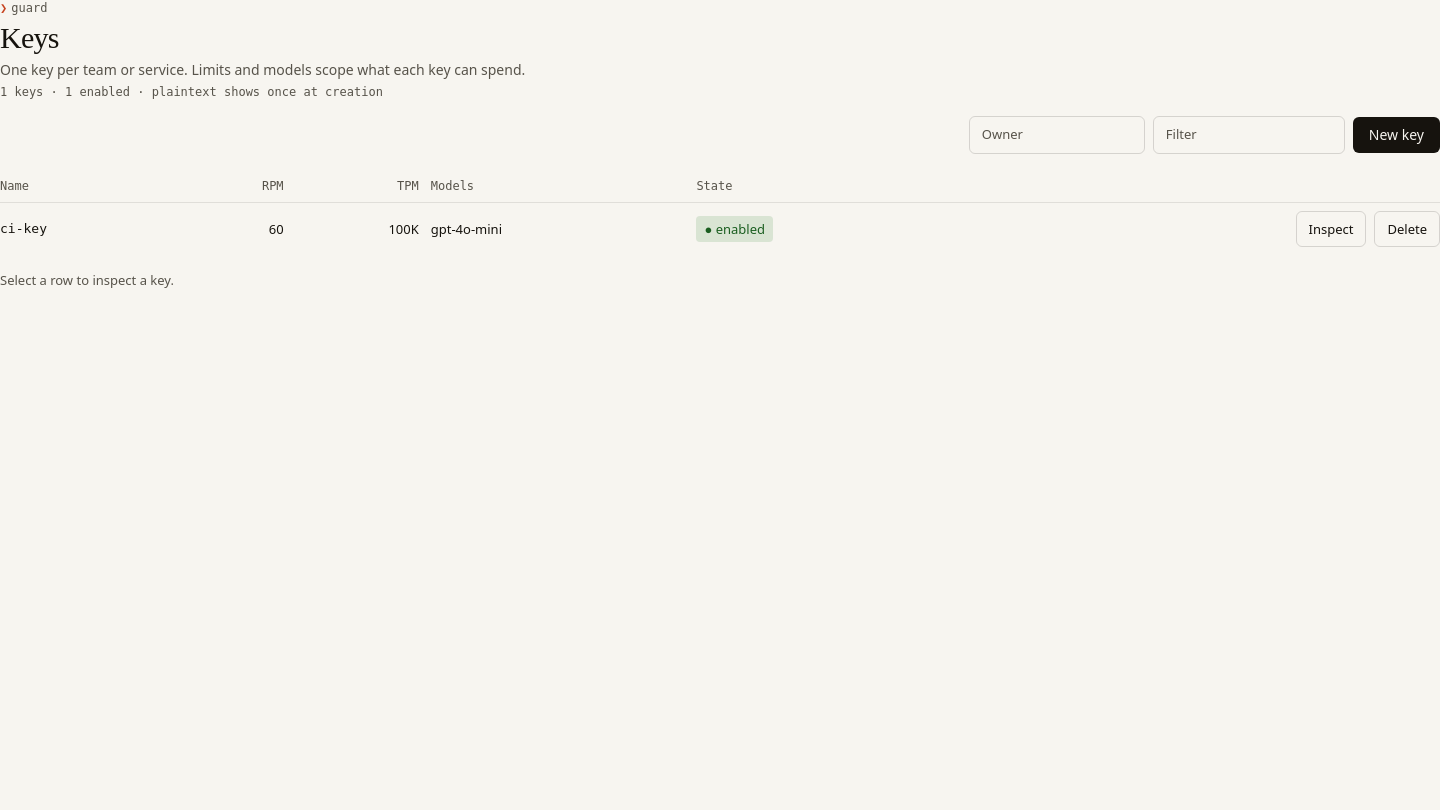
Test: KeysPage › names empty transfer targets before sending
Click the button with aria-label "inspect key ci-key" at (1331, 229), box [1296, 210, 1366, 247]
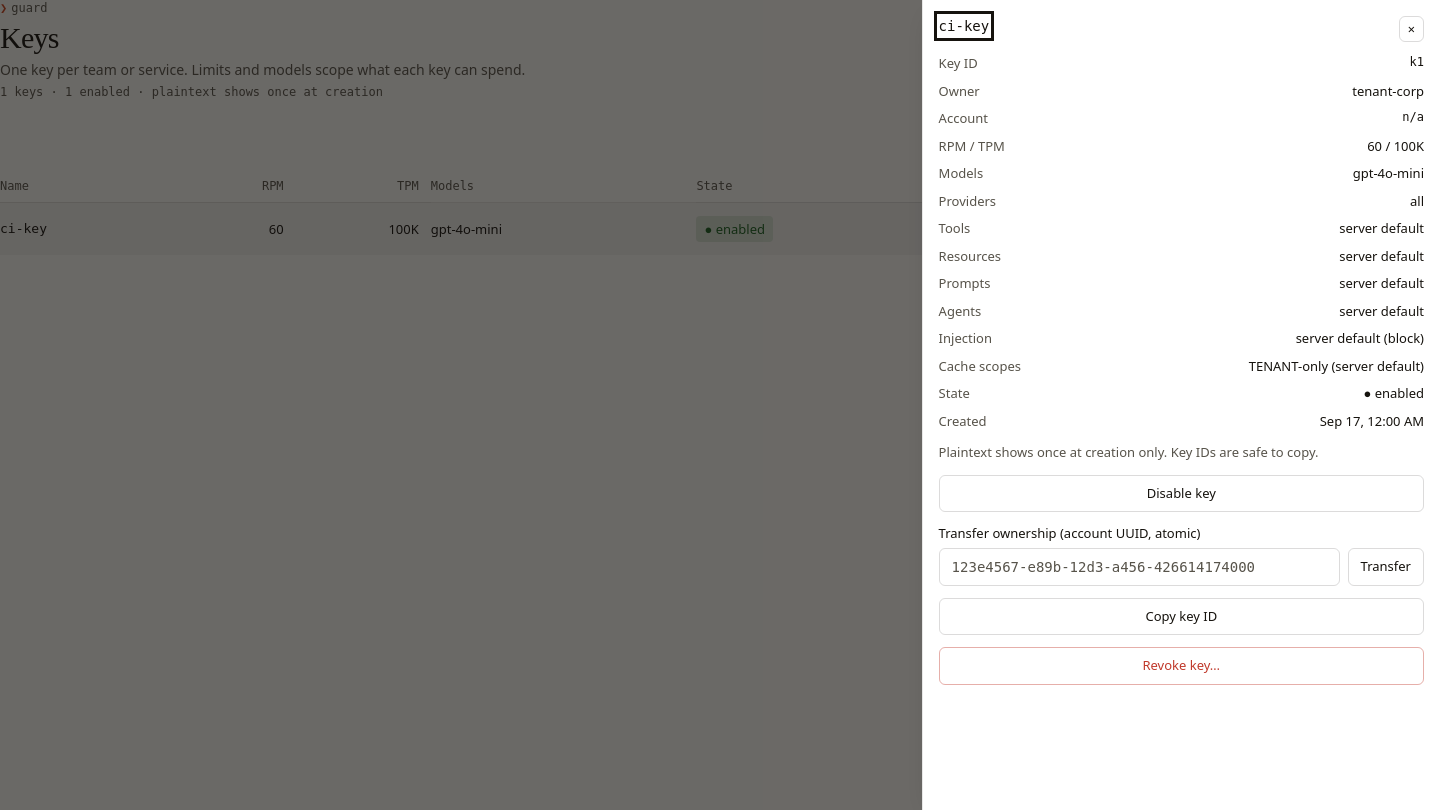
Click the button "Transfer" at (1386, 567), box [1348, 548, 1424, 586]
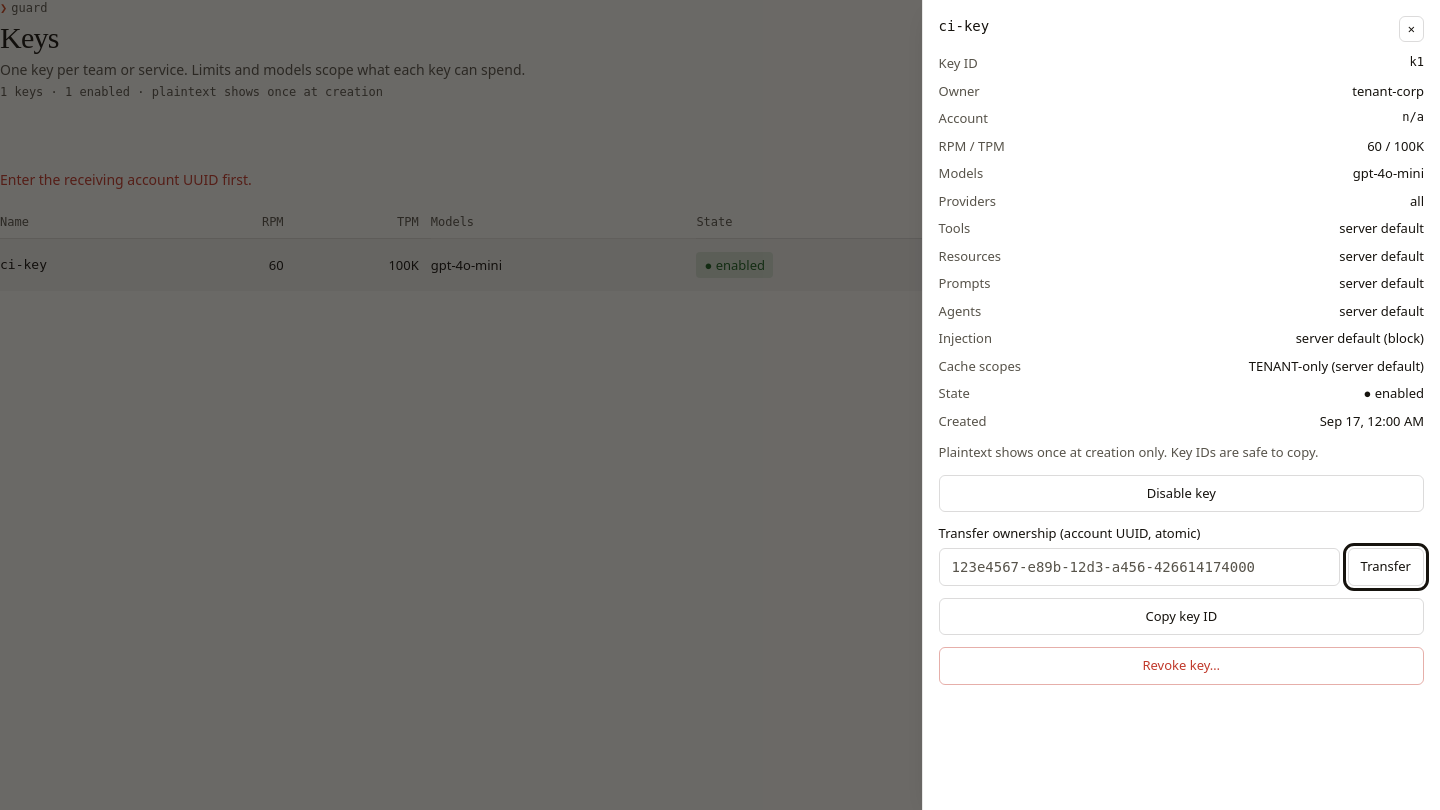
Expected: the text "Enter the receiving account UUID first." is shown, [0, 170, 252, 188]
